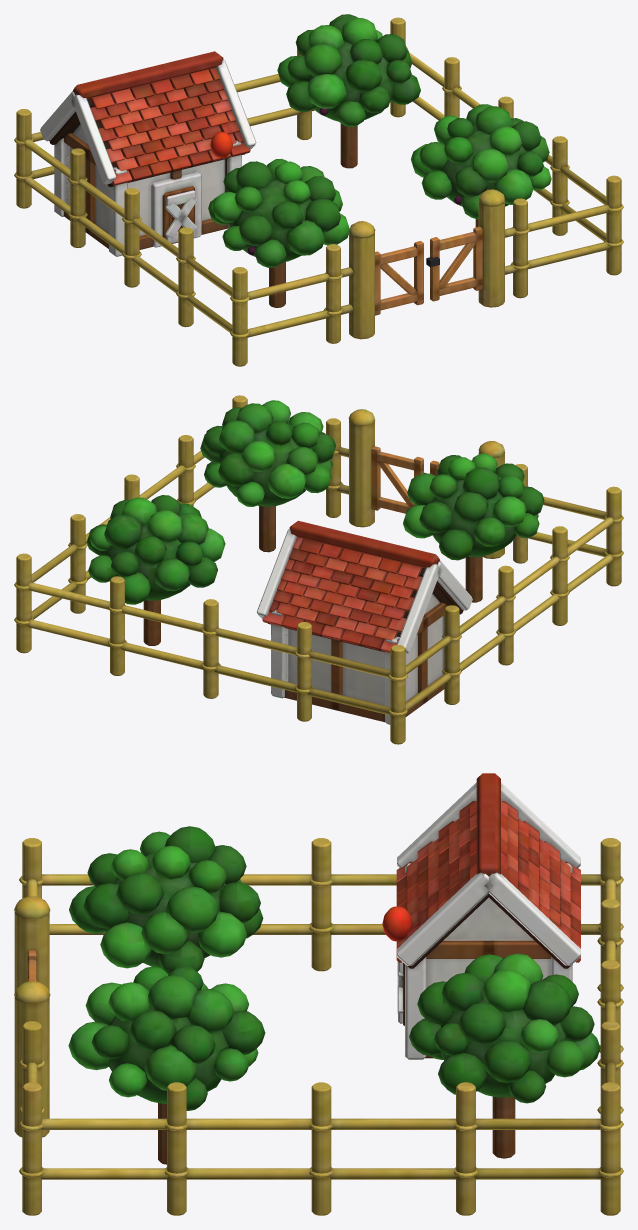
File: silk_house.glb
3 views of the same model, one above another, from view 1: azimuth 30°, elevation 25°; view 2: azimuth 150°, elevation 25°; view 3: azimuth 270°, elevation 25° (orthographic). The views are drawn at different scales.
Parts seen in each view (by area): view 1: silk_house, gate1, gate0; view 2: silk_house, gate1; view 3: silk_house.
Boxes of the visible parts, bbox=[...] form: silk_house: bbox=[14, 14, 623, 366]; gate1: bbox=[426, 226, 482, 301]; gate0: bbox=[375, 241, 423, 315]; silk_house: bbox=[14, 395, 623, 744]; gate1: bbox=[371, 446, 425, 513]; silk_house: bbox=[14, 773, 623, 1215].
Size of the model in its own units: 1.99 by 0.735 by 2.
Materials: 1 (1 with a texture image).
